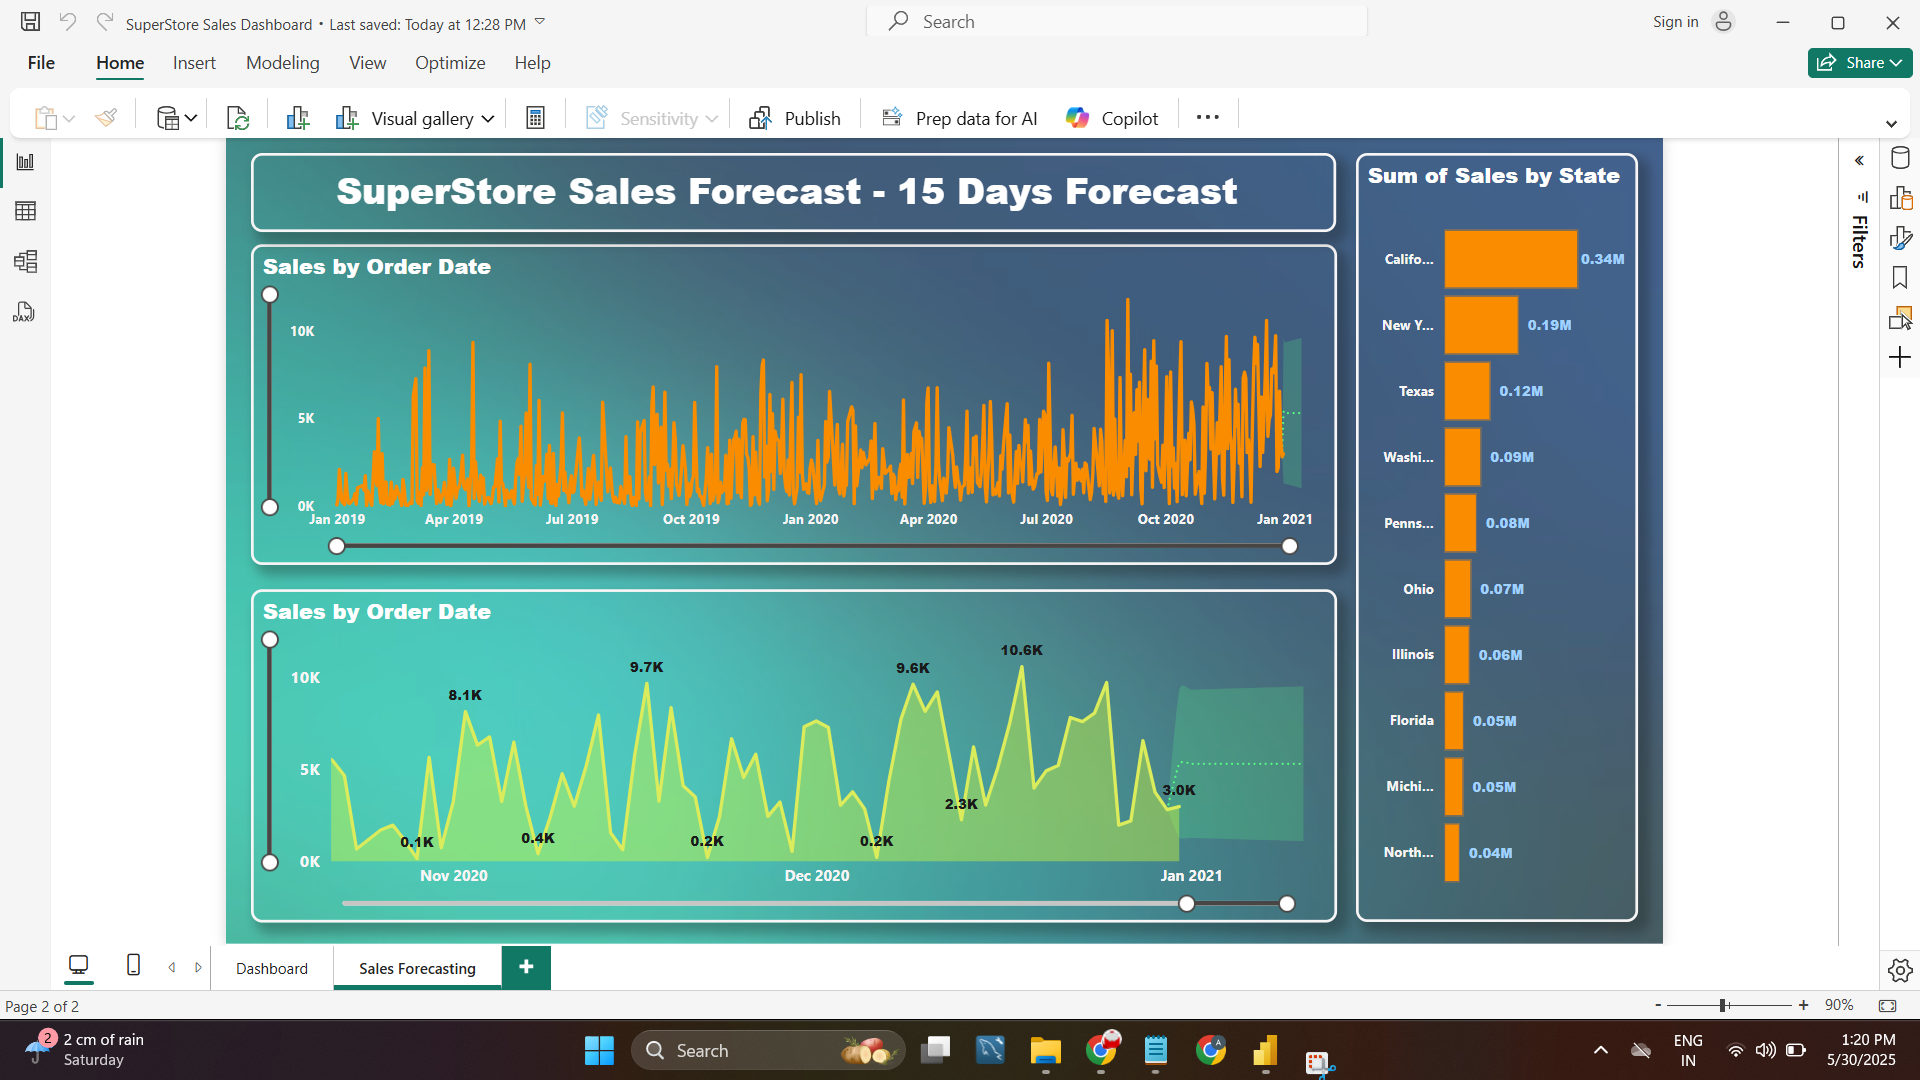

What the dashboard file says about the page in this screenshot:
{"tool":"powerbi","page":{"name":"Sales Forecasting","canvas":[1280,720],"ordinal":1},"visuals":[{"type":"lineChart","title":"Sales by Order Date","fields":{"Y":["Sum(SuperStore_Sales_Dataset.Sales)"],"Category":["SuperStore_Sales_Dataset.Order Date"]},"box":[22.2,94.9,967.1,285.8],"z":0},{"type":"lineChart","title":" Sales by Order Date","fields":{"Y":["Sum(SuperStore_Sales_Dataset.Sales)"],"Category":["SuperStore_Sales_Dataset.Order Date"]},"box":[22.2,401.6,967.1,296.9],"z":1000},{"type":"barChart","fields":{"Category":["SuperStore_Sales_Dataset.State"],"Y":["Sum(SuperStore_Sales_Dataset.Sales)"]},"box":[1006.5,13.6,251.3,685],"z":1001},{"type":"textbox","box":[22.4,13.4,966.5,70.1],"z":1002}]}

Visuals, with their boxes on the page's 1280x720 design canvas (x1, y1, x2, y2). These are canvas units, not pixel positions in the 1920x1080 screenshot, which may show the page scaled, cropped or inside an application window:
"Sales by Order Date" lineChart: bbox(22, 95, 989, 381)
" Sales by Order Date" lineChart: bbox(22, 402, 989, 698)
barChart - SuperStore_Sales_Dataset.State x Sum(SuperStore_Sales_Dataset.Sales): bbox(1006, 14, 1258, 699)
textbox: bbox(22, 13, 989, 84)
